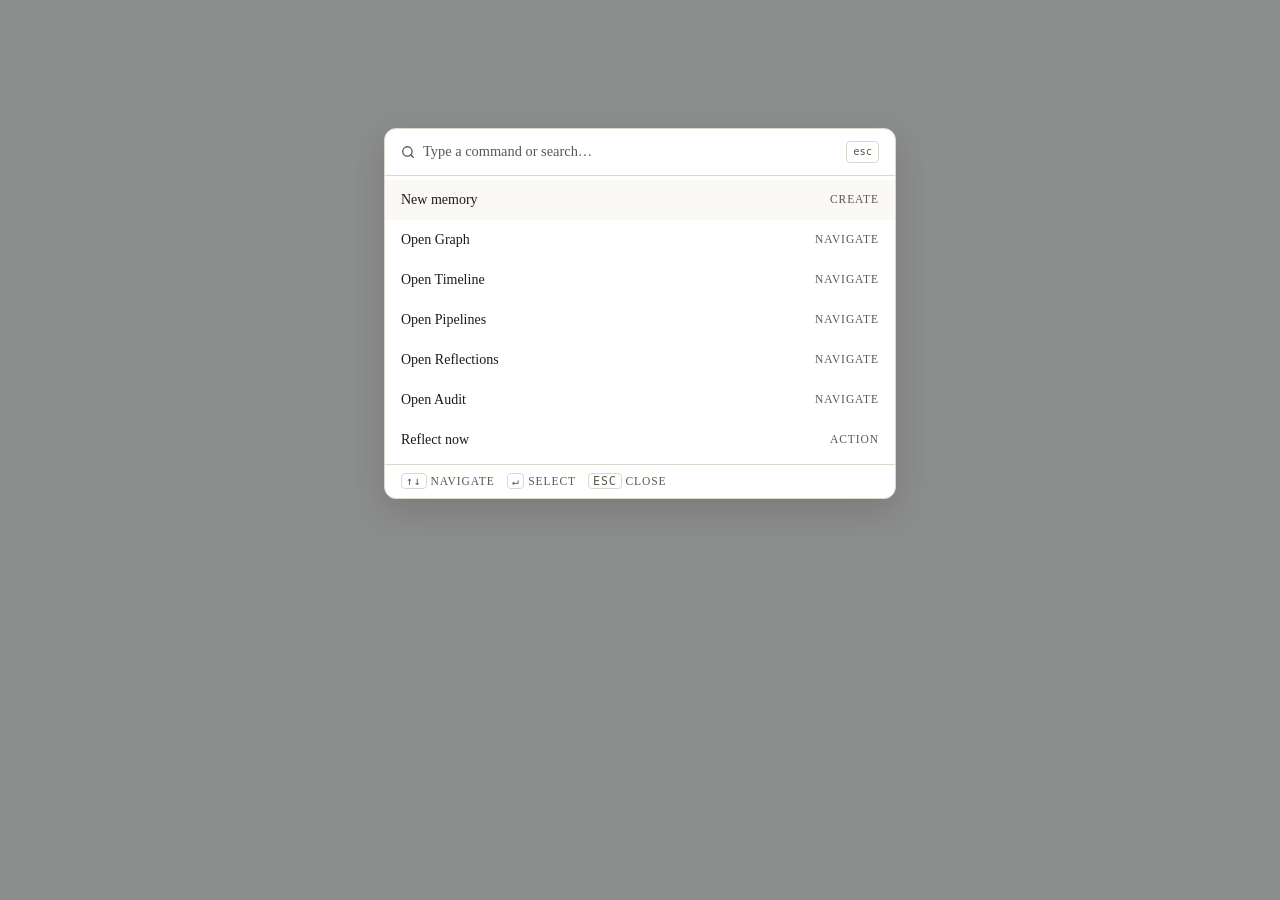
Test: filters commands by typed text
router renders asynchronously — wait for the input to appear
Type "graph" into the field with placeholder "Type a command or search…" at (631, 152), box [423,141,838,163]
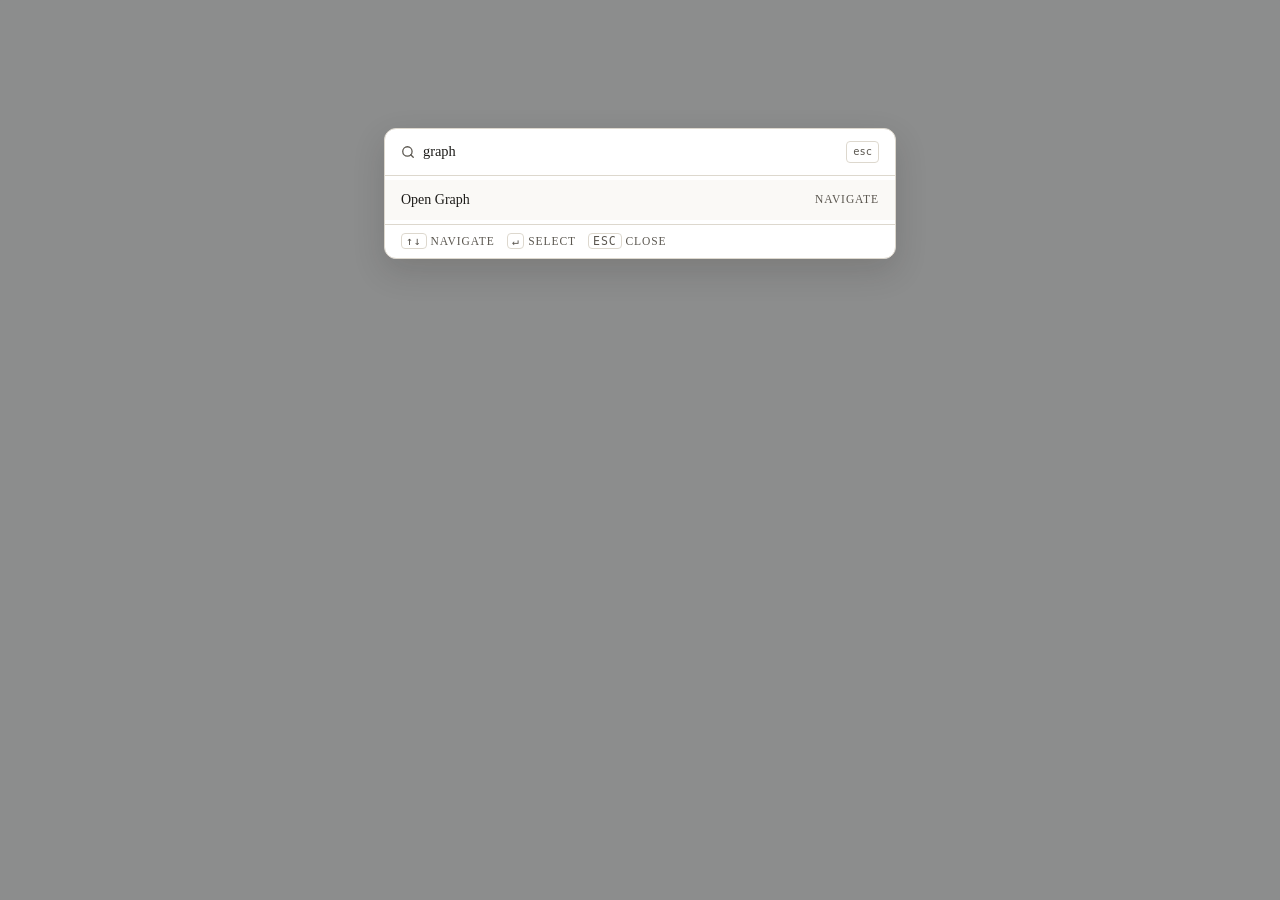
Expected: the text "Open Graph" is shown, [401,190,470,210]
Expected: the button "Open Audit" is gone
